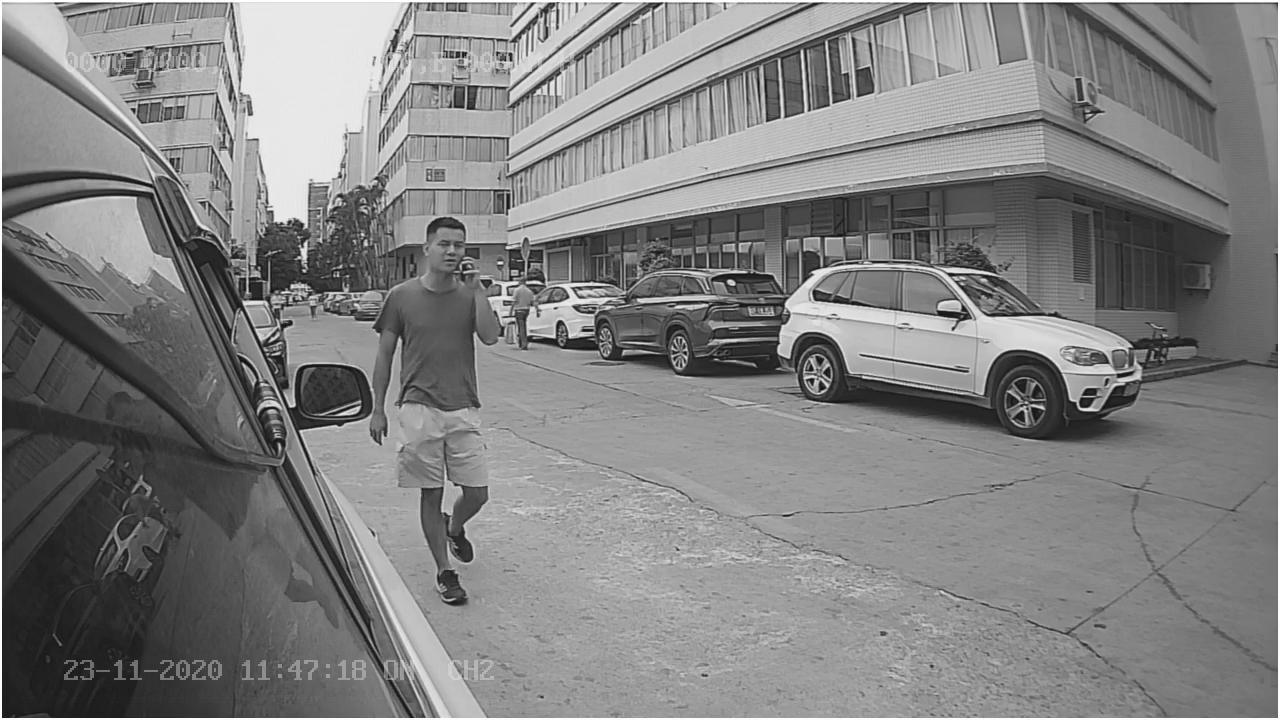person: (372, 204, 503, 372)
